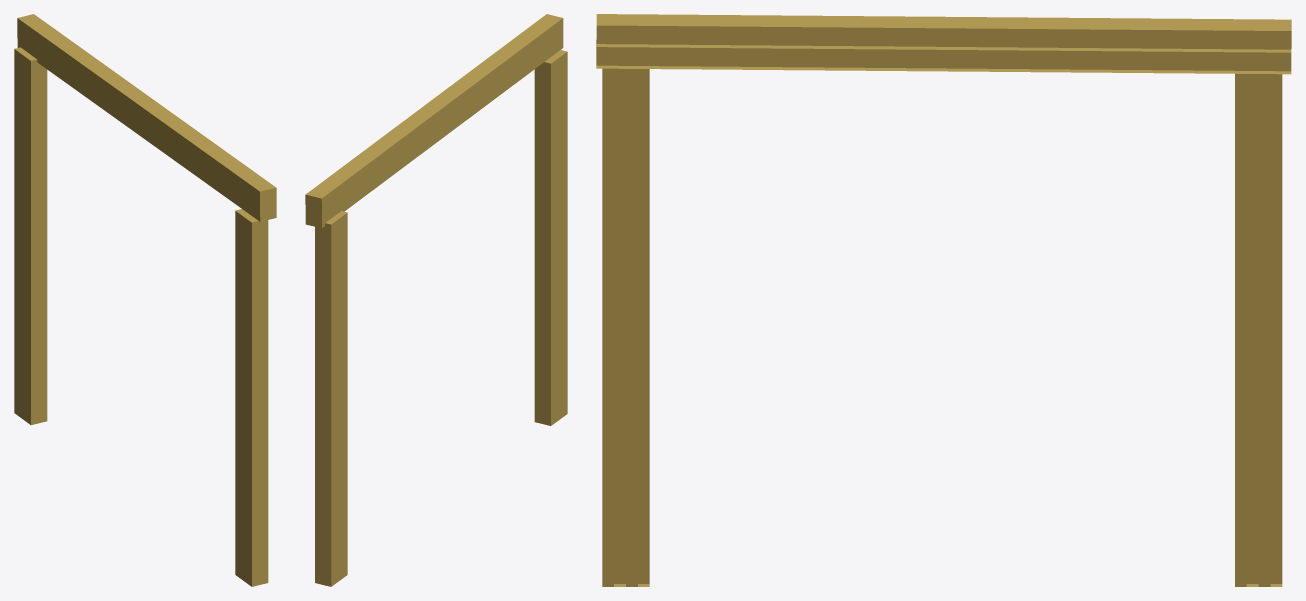
Rendered from Gateway.fbx.
The picture shows the model from 3 angles, left to right: view 1: azimuth 30°, elevation 25°; view 2: azimuth 150°, elevation 25°; view 3: azimuth 270°, elevation 25°; orthographic projection. The views are drawn at different scales.
Visible parts, largest first — view 1: Cube.001; view 2: Cube.001; view 3: Cube.001.
Boxes of the visible parts, x1,y1,x2,y2 form: Cube.001: (14,14,276,586); Cube.001: (305,14,567,586); Cube.001: (596,14,1291,586).
Bounding box in the file's own units: 13.06 × 217 × 242.
